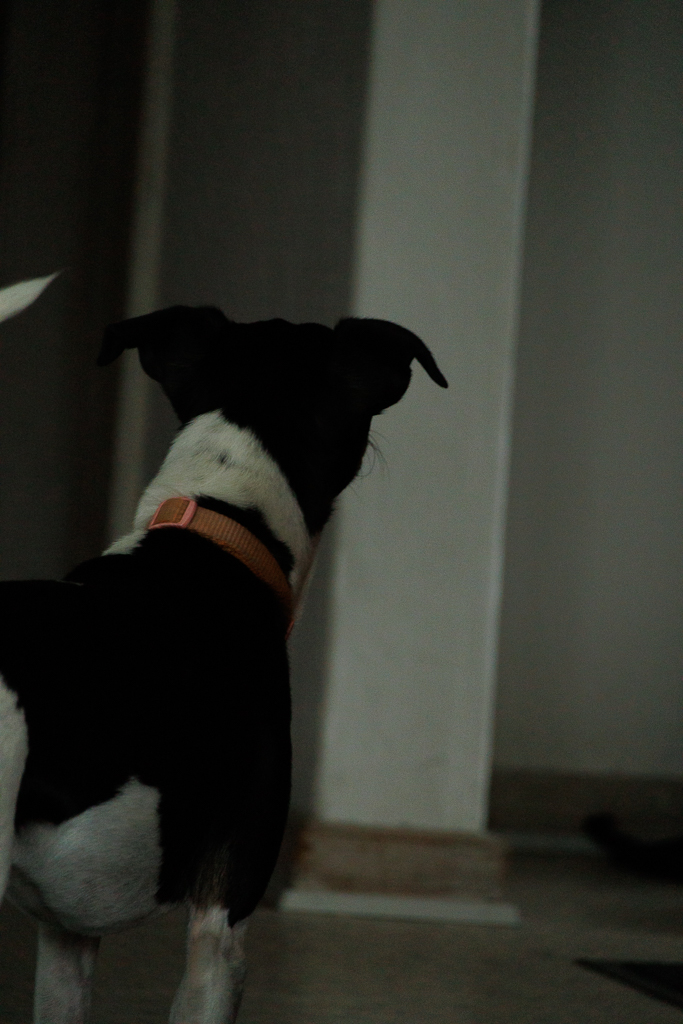Dog: (0, 249, 460, 1024)
